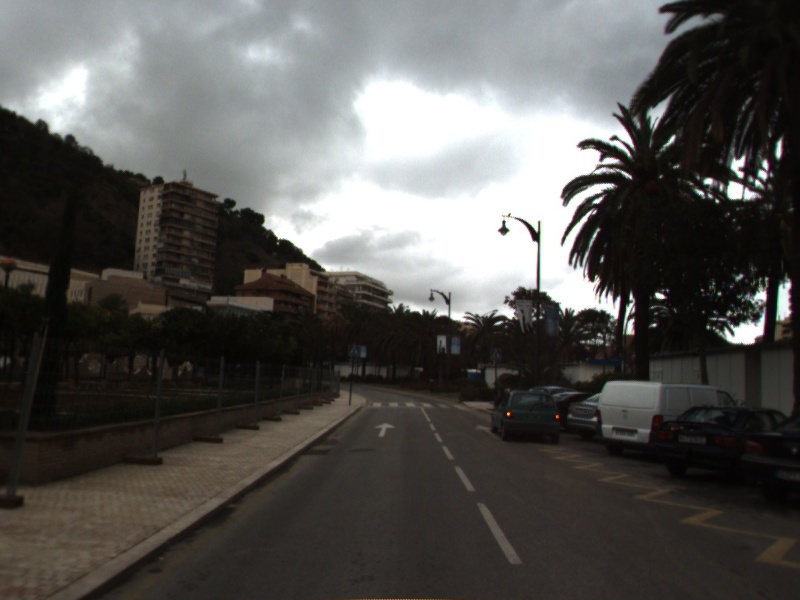STRAIGHT: (472, 422, 504, 442), (372, 420, 398, 439)
